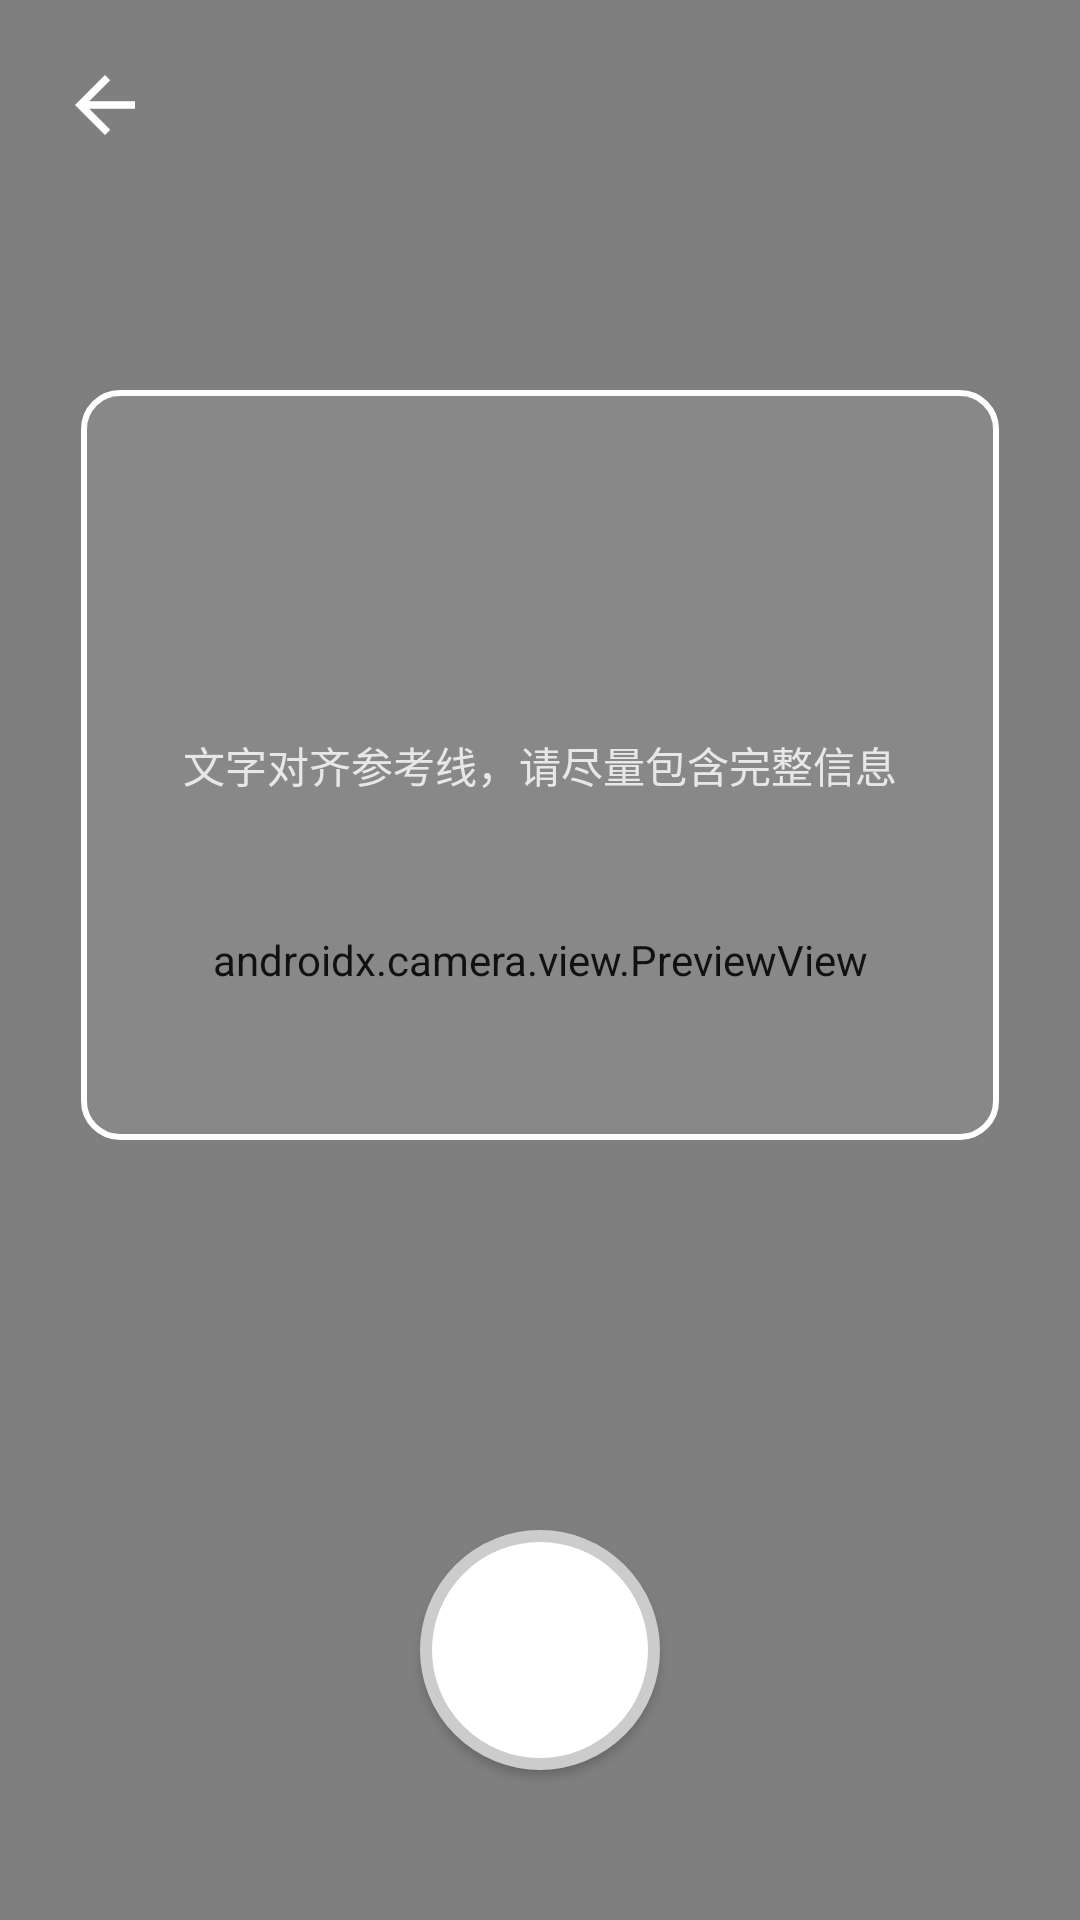

Where icons sit on this 1080 x 1920 app screen, as (x1, y1, x2, y2):
ab back: (75, 75, 135, 135)
